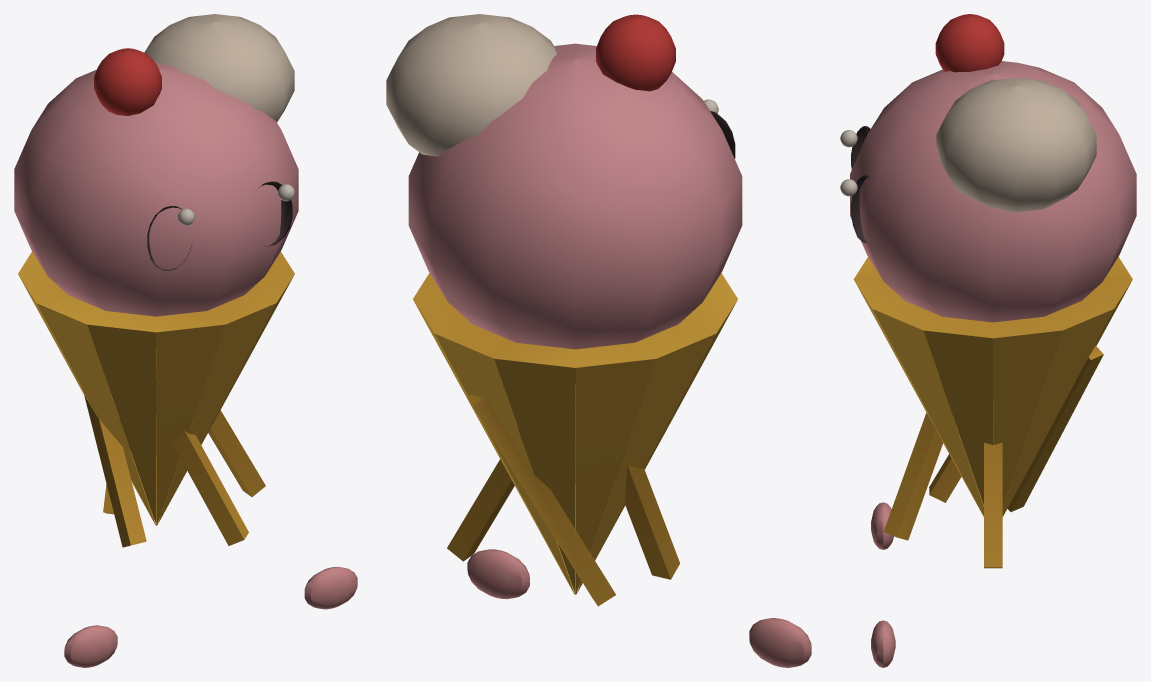
The model's file is p57fcbf1b.glb.
The picture shows the model from 3 angles, left to right: view 1: azimuth 30°, elevation 25°; view 2: azimuth 150°, elevation 25°; view 3: azimuth 270°, elevation 25°; orthographic projection. The views are drawn at different scales.
Visible parts, largest first — view 1: pet_p57fcbf1b; view 2: pet_p57fcbf1b; view 3: pet_p57fcbf1b.
Part boxes in pixels (box(x1,y1,x2,y2)): pet_p57fcbf1b: box(14, 14, 357, 667); pet_p57fcbf1b: box(386, 14, 811, 667); pet_p57fcbf1b: box(840, 14, 1136, 667).
Bounding box in the file's own units: 0.2932 × 0.5389 × 0.2545.
